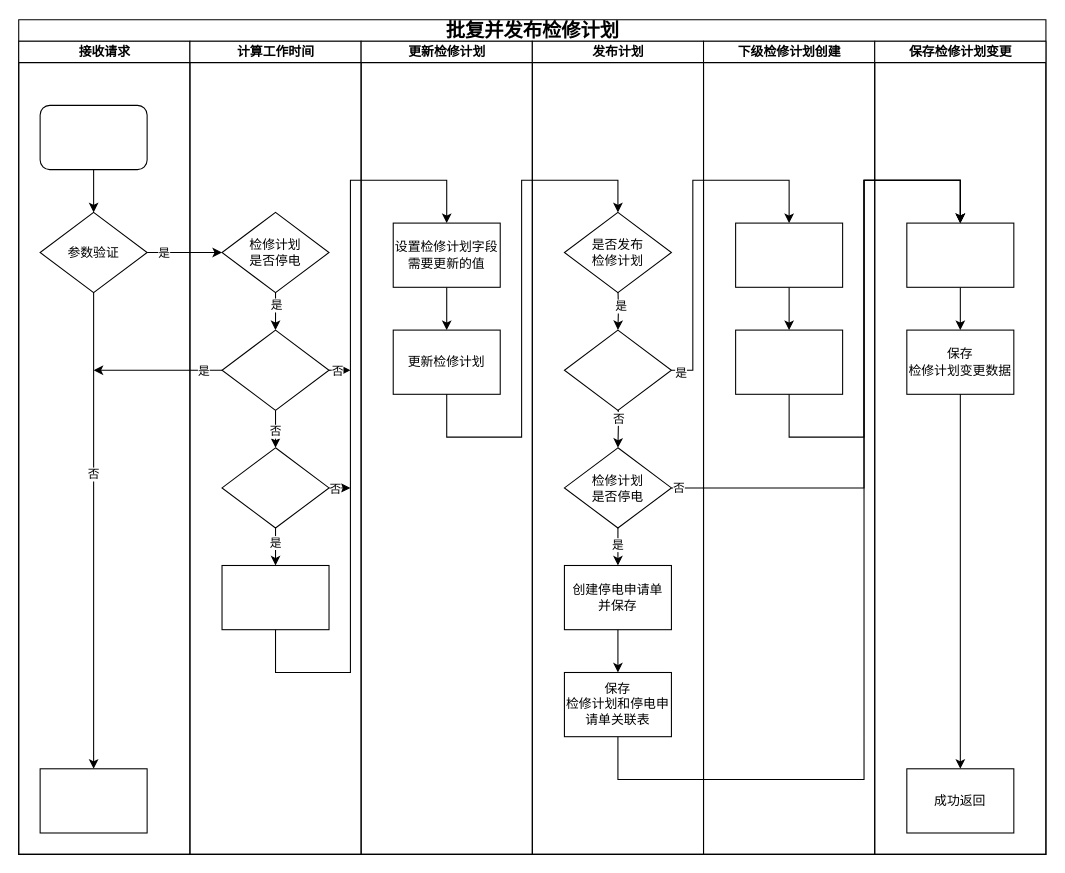
Some shapes in this 1065 by 873 pixel diagram are drawn without their labels. The centre of each missing label's shape, as x and y in pixels:
停电开始时间 大于 结束时间: the point at 275,369
创建年、月计划的下级检修计划: the point at 789,361
失败返回: the point at 93,800
开始: the point at 93,137
是否为 年、月检修计划: the point at 617,369
是否要更新 工作时间: the point at 275,487
构建 检修计划变更数据: the point at 960,254
构建新建检修计划的参数: the point at 789,254
重启计算 工作时间: the point at 275,597
